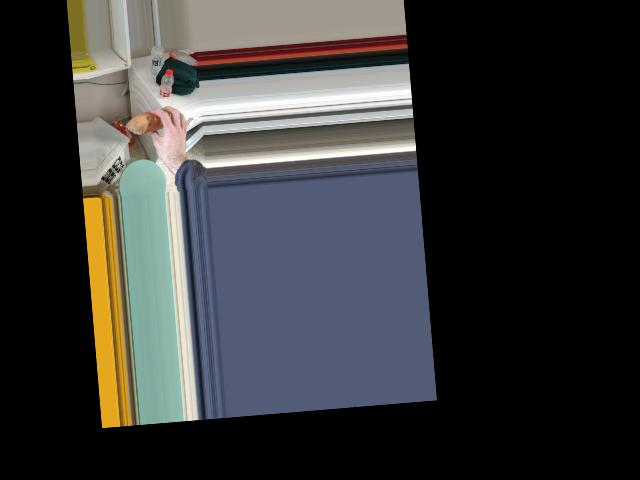sweet_potato: (134, 112, 168, 130)
